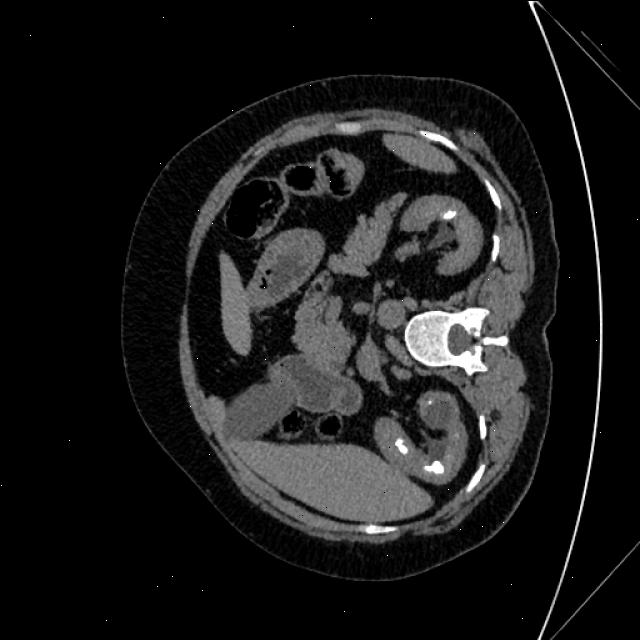kidneystone: (395, 438, 408, 454)
